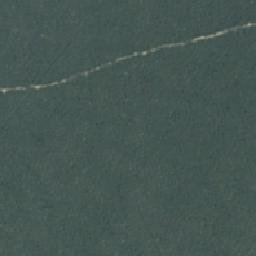debris: (112, 40, 190, 65), (51, 61, 111, 85), (191, 22, 256, 42), (1, 80, 49, 91)
